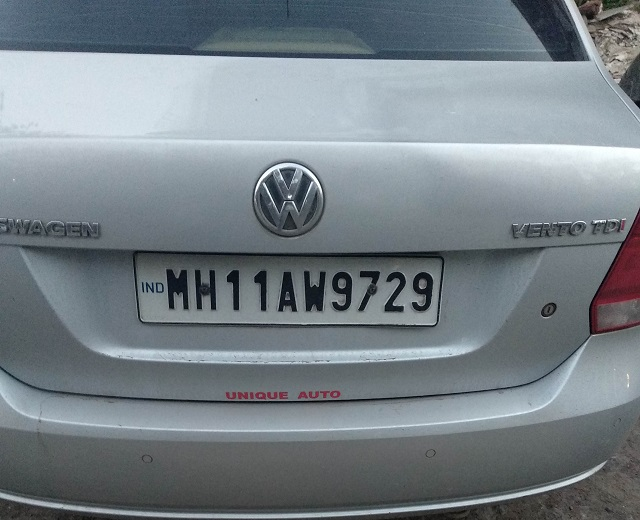licenseplate: (131, 248, 446, 327)
